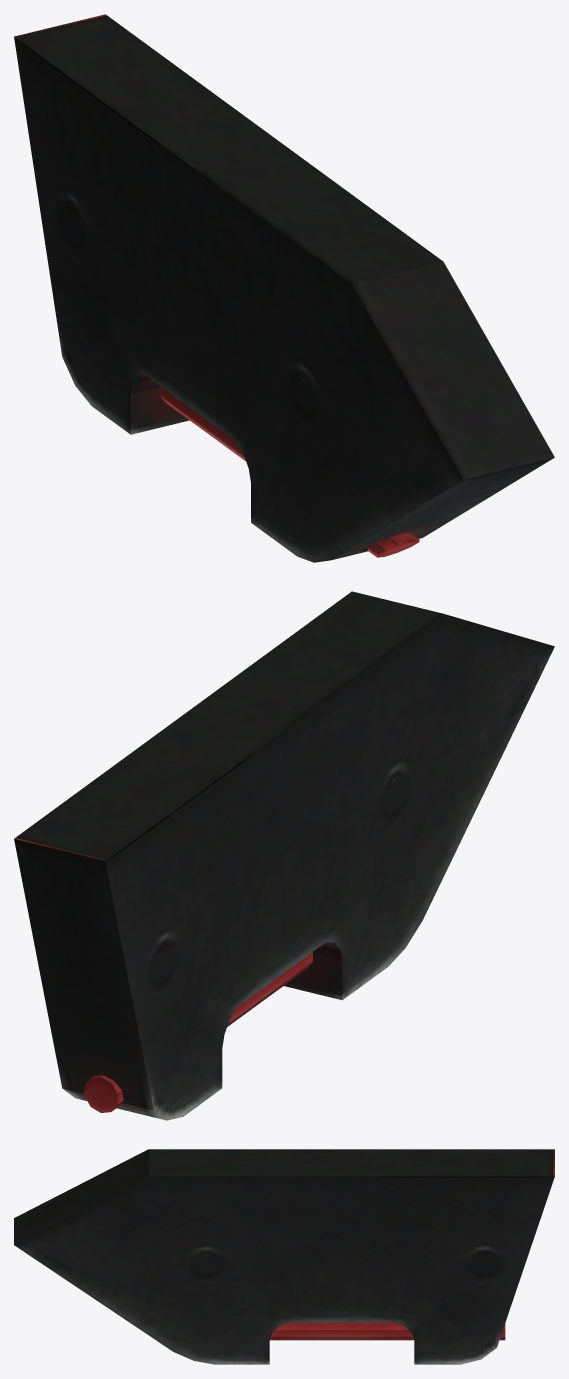
3 renders of one model, top to bottom at view 1: azimuth 30°, elevation 25°; view 2: azimuth 150°, elevation 25°; view 3: azimuth 270°, elevation 25°, orthographic. The views are drawn at different scales.
Parts seen in each view (by area): view 1: TW_619f52454c58466fe122843b_PZ_Import; view 2: TW_619f52454c58466fe122843b_PZ_Import; view 3: TW_619f52454c58466fe122843b_PZ_Import.
Boxes of the visible parts, left/top/right/bottom form: TW_619f52454c58466fe122843b_PZ_Import: left=14, top=14, right=554, bottom=562; TW_619f52454c58466fe122843b_PZ_Import: left=14, top=591, right=554, bottom=1120; TW_619f52454c58466fe122843b_PZ_Import: left=14, top=1149, right=554, bottom=1364.
Size of the model in its own units: 0.00135 by 0.0115 by 0.00441.
1 material, 1 textured.
